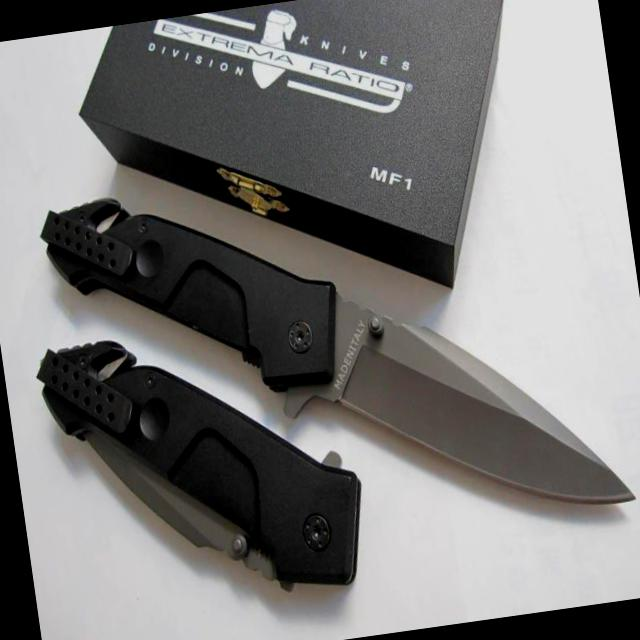knife: (297, 258, 639, 559)
